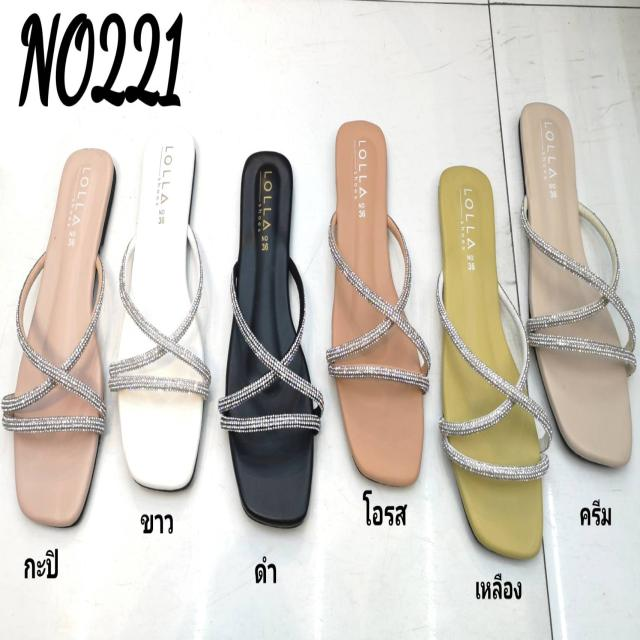black: (223, 147, 322, 527)
cream: (519, 101, 634, 470)
kapi: (14, 142, 110, 524)
orot: (331, 116, 429, 483)
white: (114, 132, 207, 494)
yellow: (438, 169, 546, 563)
